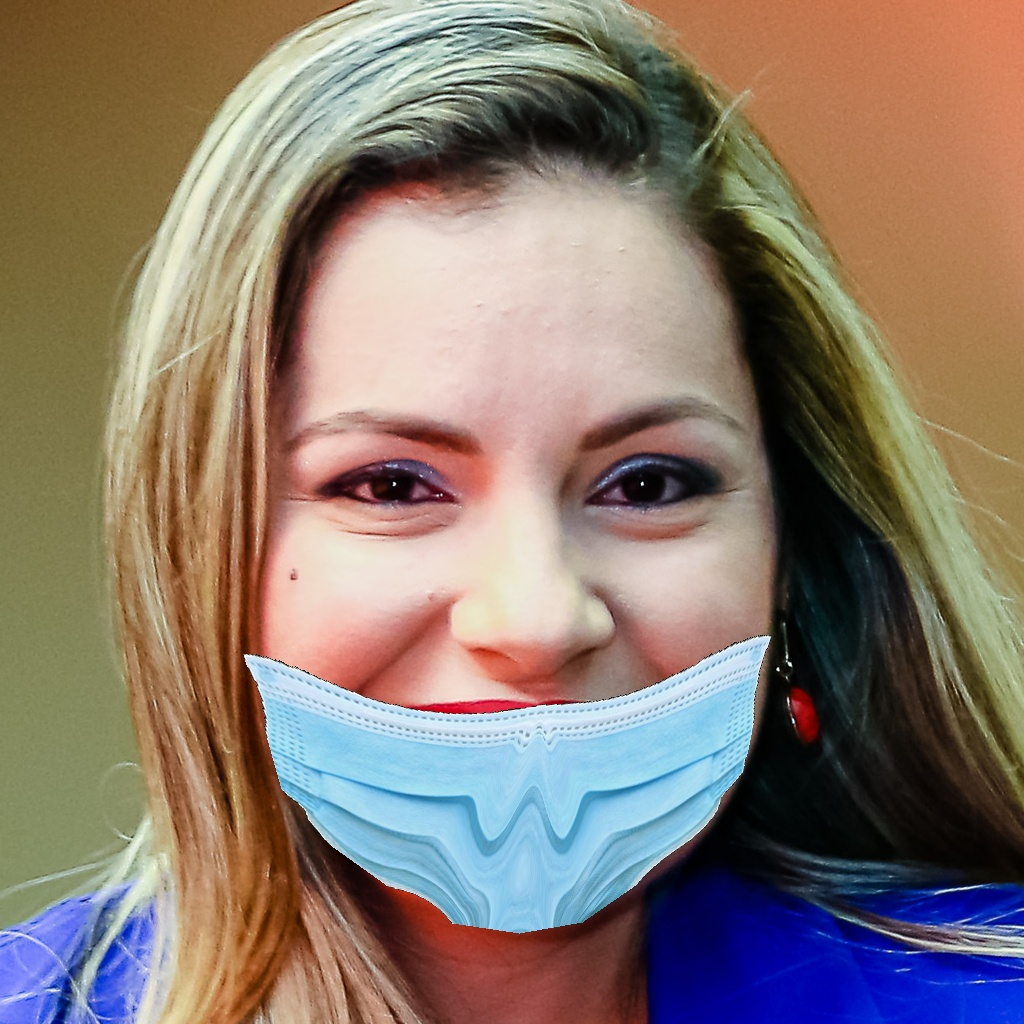mask_weared_incorrect: (191, 387, 792, 945)
